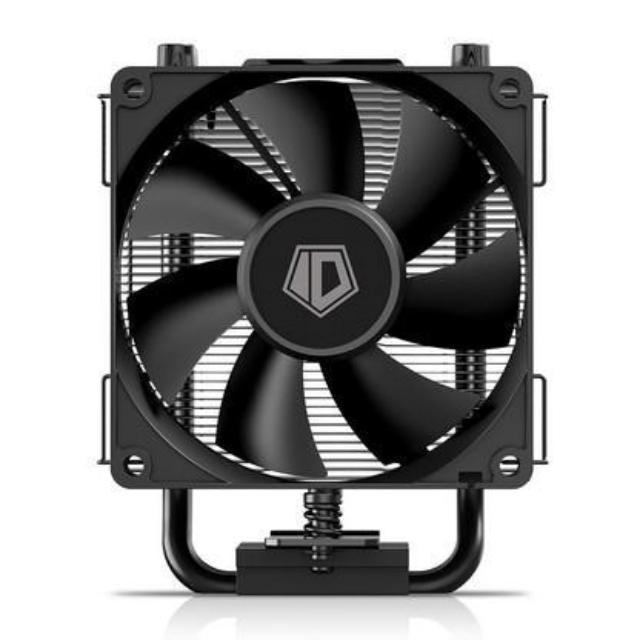CPU_Fan: (96, 36, 548, 599)
